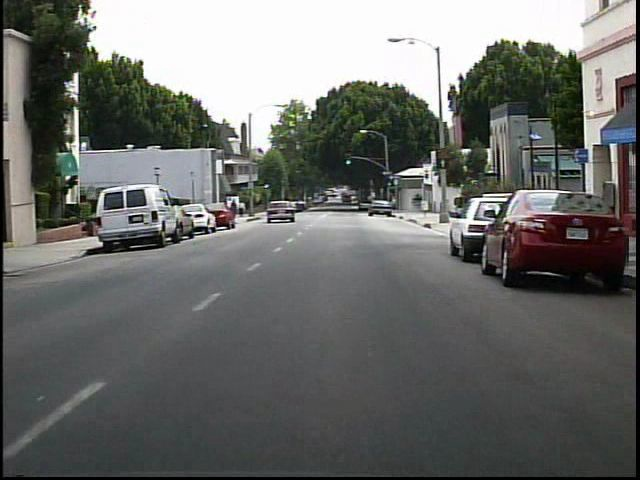person: (227, 197, 239, 220), (239, 198, 250, 221)
